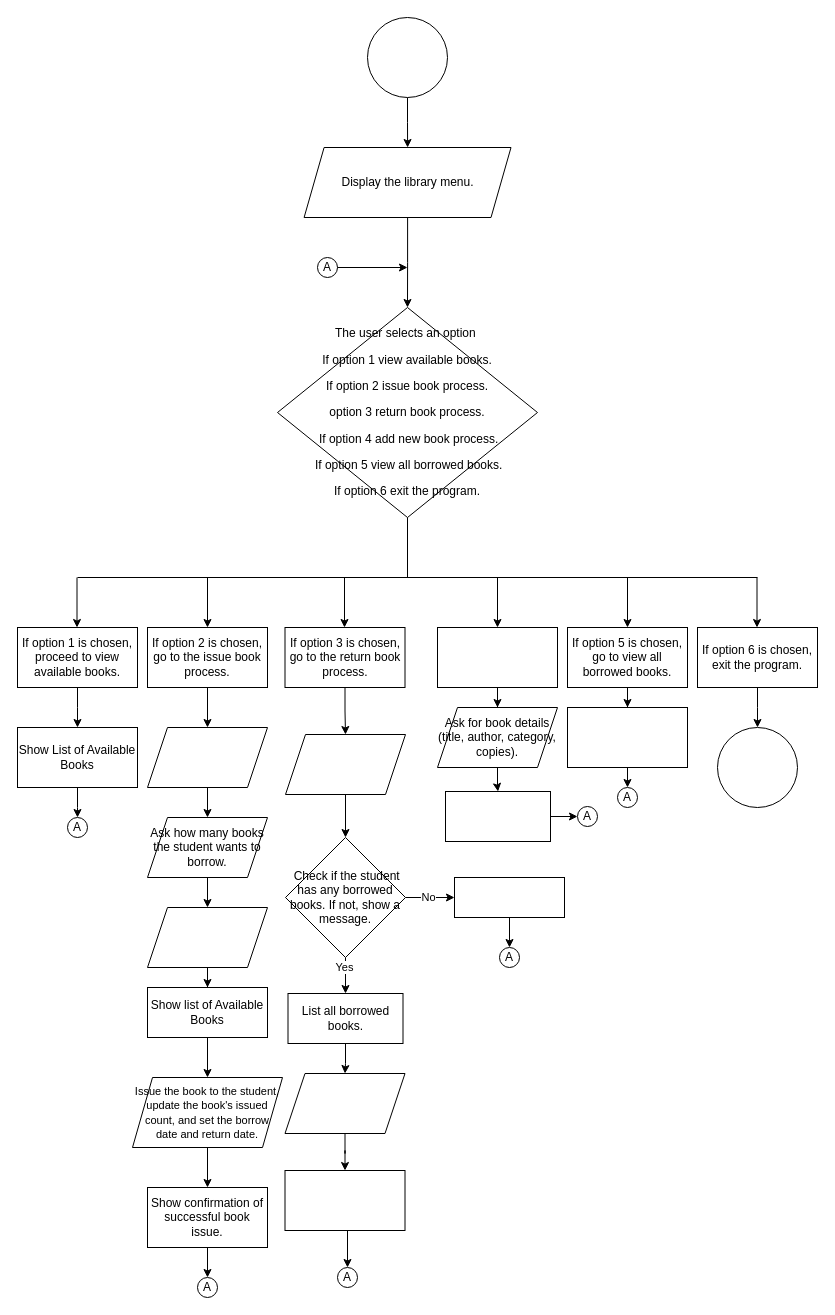
Image size: 835x1315. Some labels were removed from this diagram. The centre of each missing label's shape, as x and y in pixels:
Ask for specific books and the number of copies.: the point at 207,937
Ask for the number of copies to return.: the point at 344,1103
Ask for the student ID.: the point at 345,764
Ask for the student's name and ID.: the point at 207,757
Display all borrowed books.: the point at 627,737
End: the point at 757,767
If option 4 is chosen, go to the add new book process.: the point at 497,657
No books found under your student ID: the point at 509,897
Print: Book Added Successfully!: the point at 497,816
Start: the point at 407,57
Update the book's issued count and remove the borrowed book record.: the point at 344,1200
